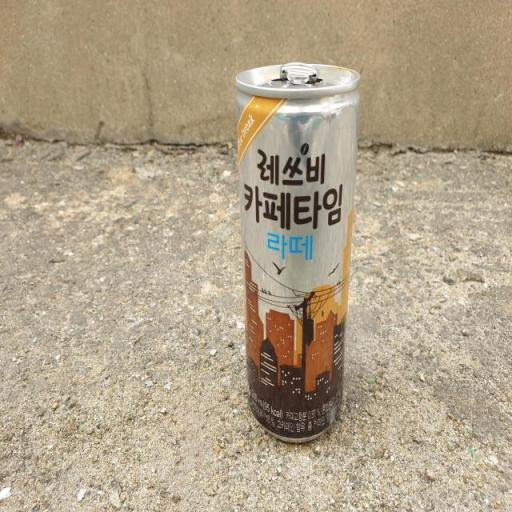metal: (225, 0, 366, 459)
